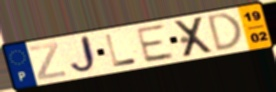D: (206, 11, 245, 54)
E: (134, 23, 177, 65)
J: (68, 33, 100, 76)
L: (103, 33, 140, 69)
X: (173, 15, 216, 60)
Z: (27, 41, 69, 82)
